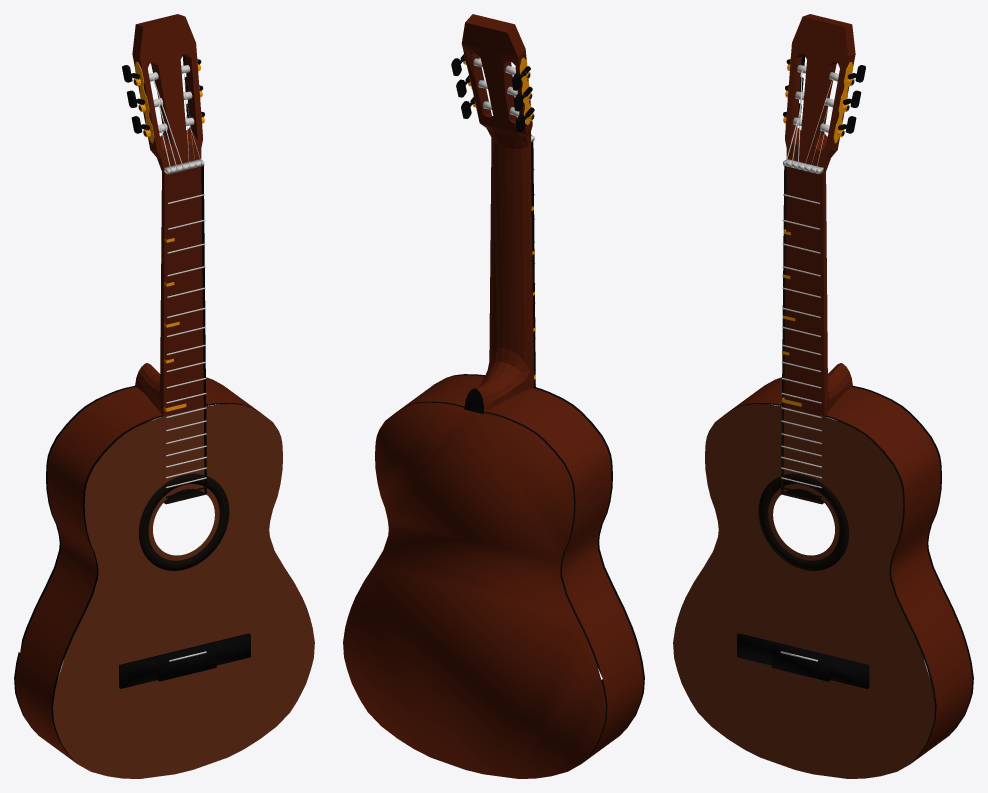
File: gao-beta-7.obj
3 renders of one model, left to right at view 1: azimuth 30°, elevation 25°; view 2: azimuth 150°, elevation 25°; view 3: azimuth 330°, elevation 25°, orthographic.
Visible parts, largest first — view 1: guitar.top, guitar.neck, guitar.body, guitar.misc, guitar.fingerboard, guitar.frets; view 2: guitar.body, guitar.neck, guitar.misc, guitar.fingerboard; view 3: guitar.top, guitar.neck, guitar.body, guitar.misc, guitar.frets, guitar.fingerboard.
Boxes of the visible parts, x1,y1,x2,y2 form: guitar.top: [53, 404, 314, 778]; guitar.neck: [132, 14, 203, 416]; guitar.body: [14, 377, 309, 763]; guitar.misc: [119, 55, 250, 688]; guitar.fingerboard: [164, 166, 206, 504]; guitar.frets: [166, 194, 206, 488]; guitar.body: [343, 374, 644, 778]; guitar.neck: [461, 14, 533, 414]; guitar.misc: [451, 54, 534, 142]; guitar.fingerboard: [531, 141, 535, 386]; guitar.top: [673, 404, 934, 778]; guitar.neck: [784, 14, 855, 416]; guitar.body: [678, 377, 973, 763]; guitar.misc: [737, 55, 869, 688]; guitar.frets: [781, 194, 821, 488]; guitar.fingerboard: [781, 166, 823, 504].
Bounding box in the file's own units: 0.3682 × 0.9884 × 0.1064.
